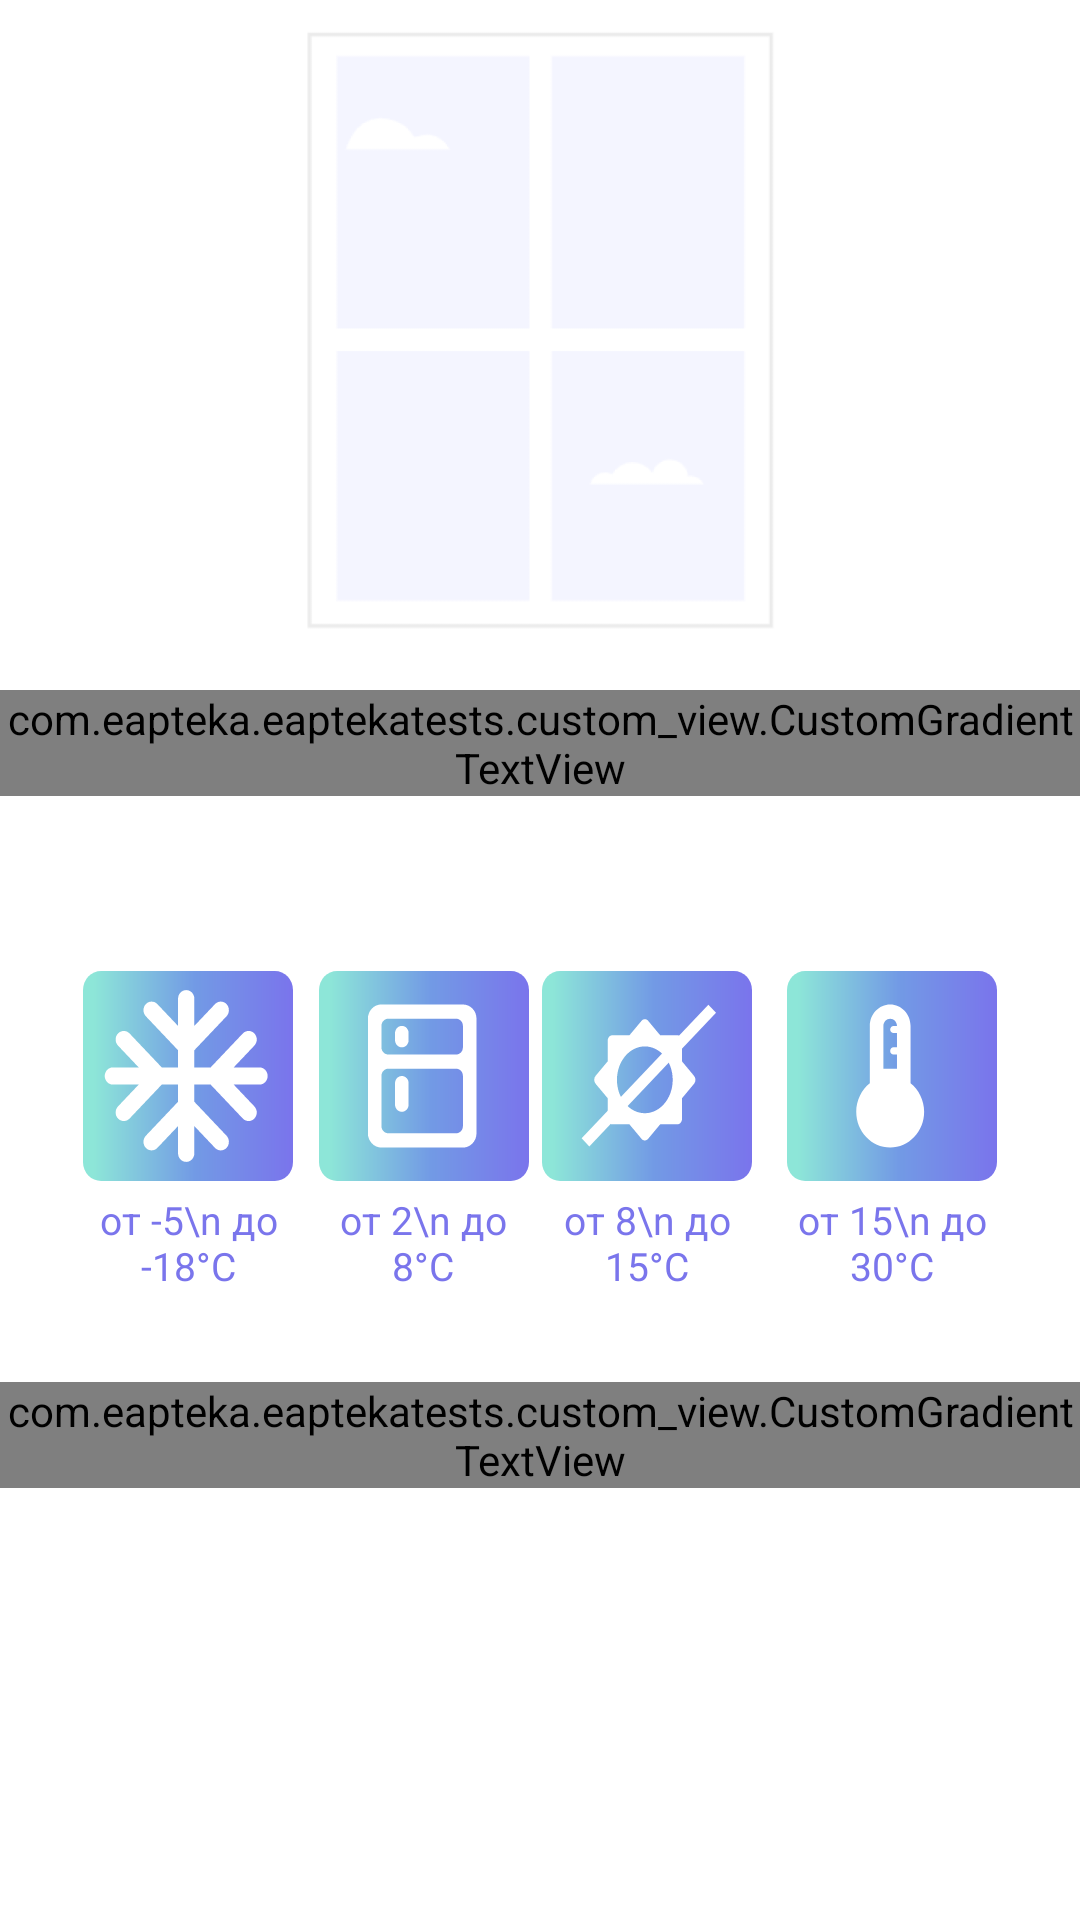

Icon click points for this 1080px x 1920px phone screenshot, format (x=x, y=y):
cold: (x=188, y=1076)
no sun: (x=647, y=1076)
refrigerator: (x=423, y=1076)
temperature: (x=892, y=1076)
